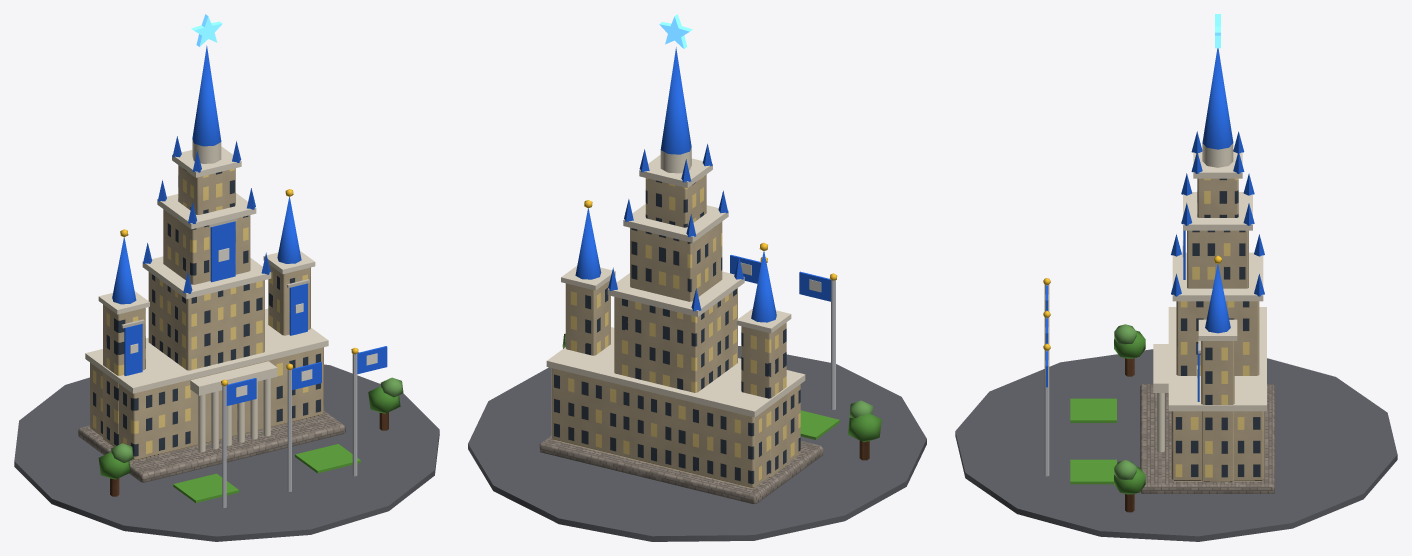
File: residence_dl6_blue.glb
The picture shows the model from 3 angles, left to right: view 1: azimuth 30°, elevation 25°; view 2: azimuth 150°, elevation 25°; view 3: azimuth 270°, elevation 25°; orthographic projection. The views are drawn at different scales.
Parts seen in each view (by area): view 1: residence_dl6_blue; view 2: residence_dl6_blue; view 3: residence_dl6_blue.
Boxes of the visible parts, left/top/right/bottom form: residence_dl6_blue: left=14, top=14, right=439, bottom=541; residence_dl6_blue: left=468, top=14, right=926, bottom=541; residence_dl6_blue: left=955, top=14, right=1397, bottom=541.
Size of the model in its own units: 1.71 by 1.85 by 1.71.
2 materials, 1 textured.
